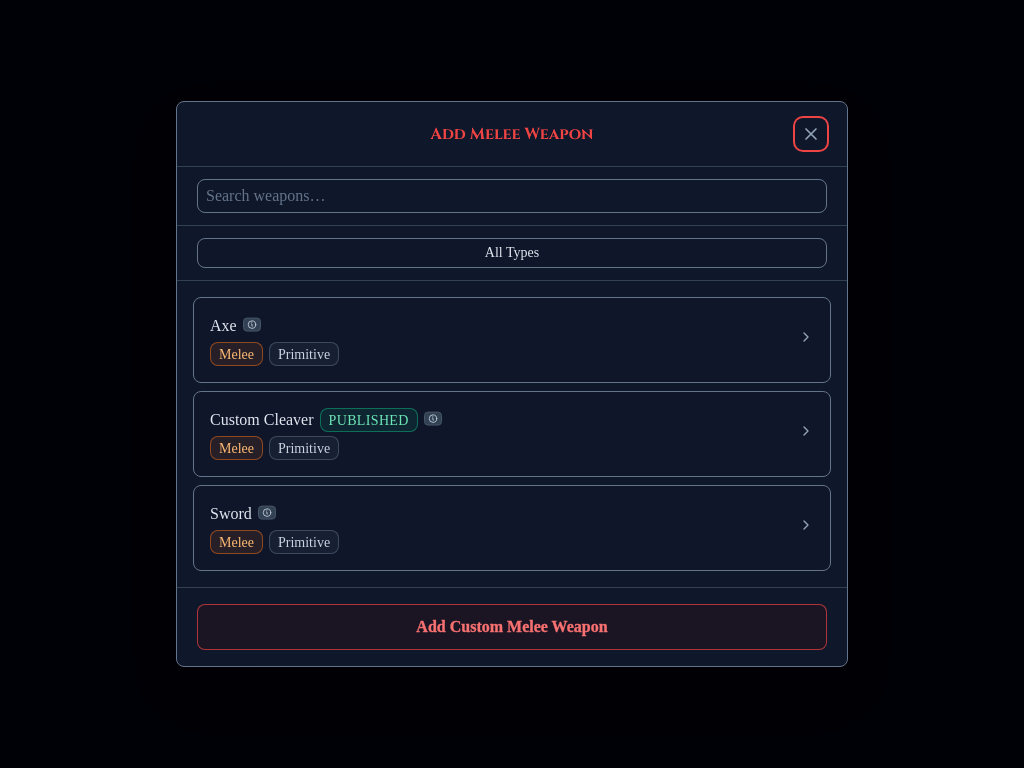
Test case: MeleePicker › shows a custom melee weapon's type chip closed and its damage once opened
Check: the text "Primitive" is shown, box [269,342,339,366]
Check: the text "Pen" is not shown
Click the button named "Expand Custom Cleaver details" at point(806, 431), box [794,419,818,443]
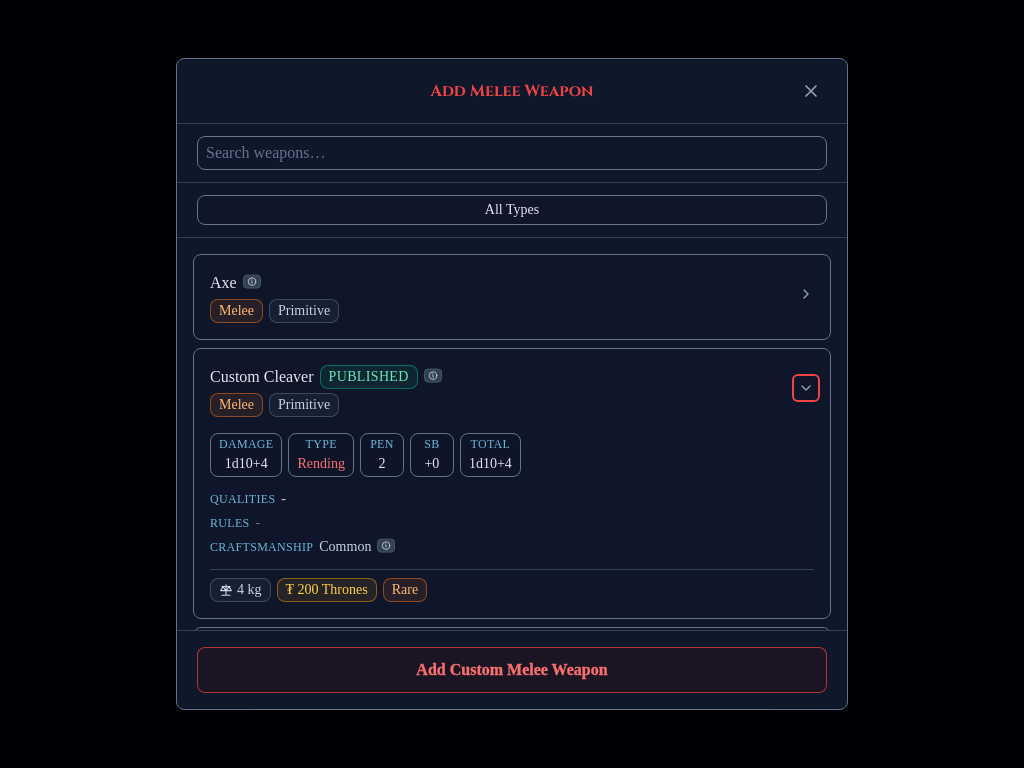
Check: the text "Pen" is shown, box [370,436,394,452]
